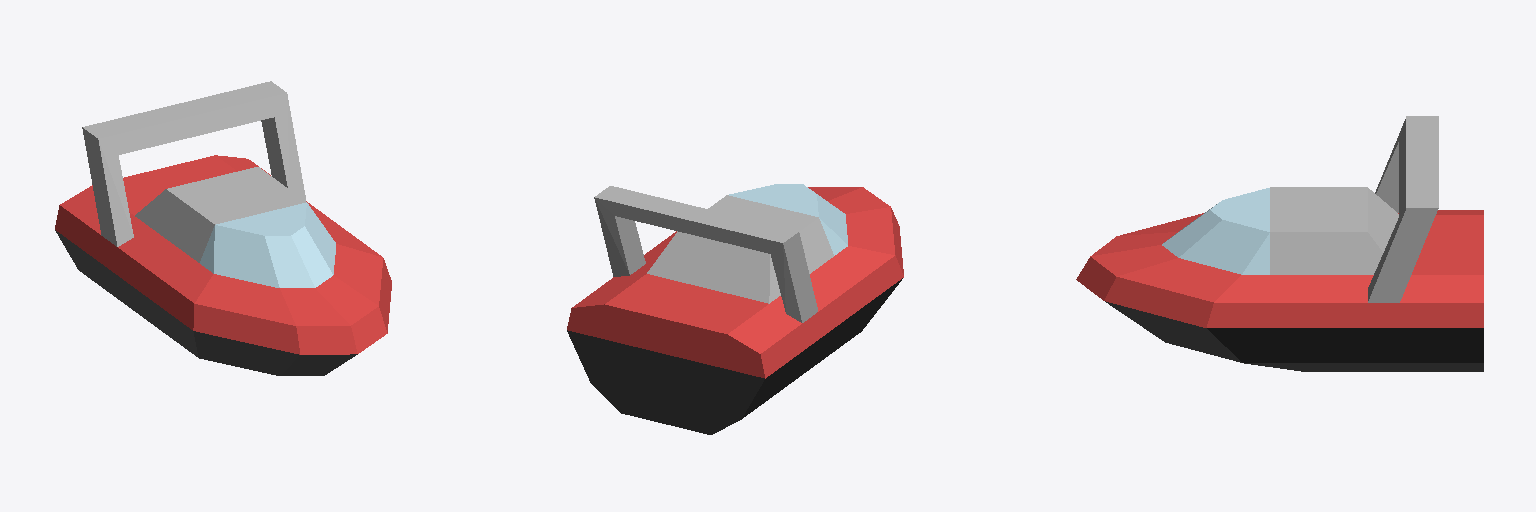
The model's file is watercraftPack_022.obj.
3 renders of one model, left to right at view 1: azimuth 30°, elevation 25°; view 2: azimuth 150°, elevation 25°; view 3: azimuth 270°, elevation 25°, orthographic.
Parts seen in each view (by area): view 1: Mesh1 Group1 Model; view 2: Mesh1 Group1 Model; view 3: Mesh1 Group1 Model.
Boxes of the visible parts, <box> form: Mesh1 Group1 Model: <box>55,81,391,375</box>; Mesh1 Group1 Model: <box>567,184,903,434</box>; Mesh1 Group1 Model: <box>1076,116,1483,371</box>.
Size of the model in its own units: 1.78 by 1.61 by 3.17.